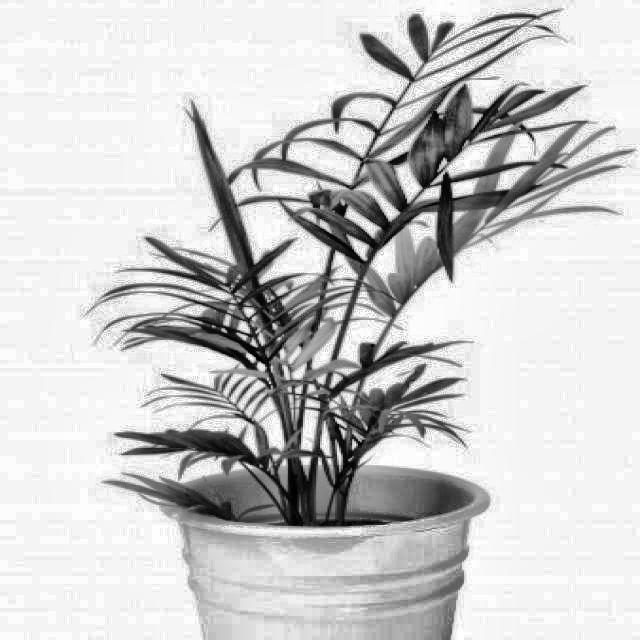plants: (80, 0, 588, 579)
